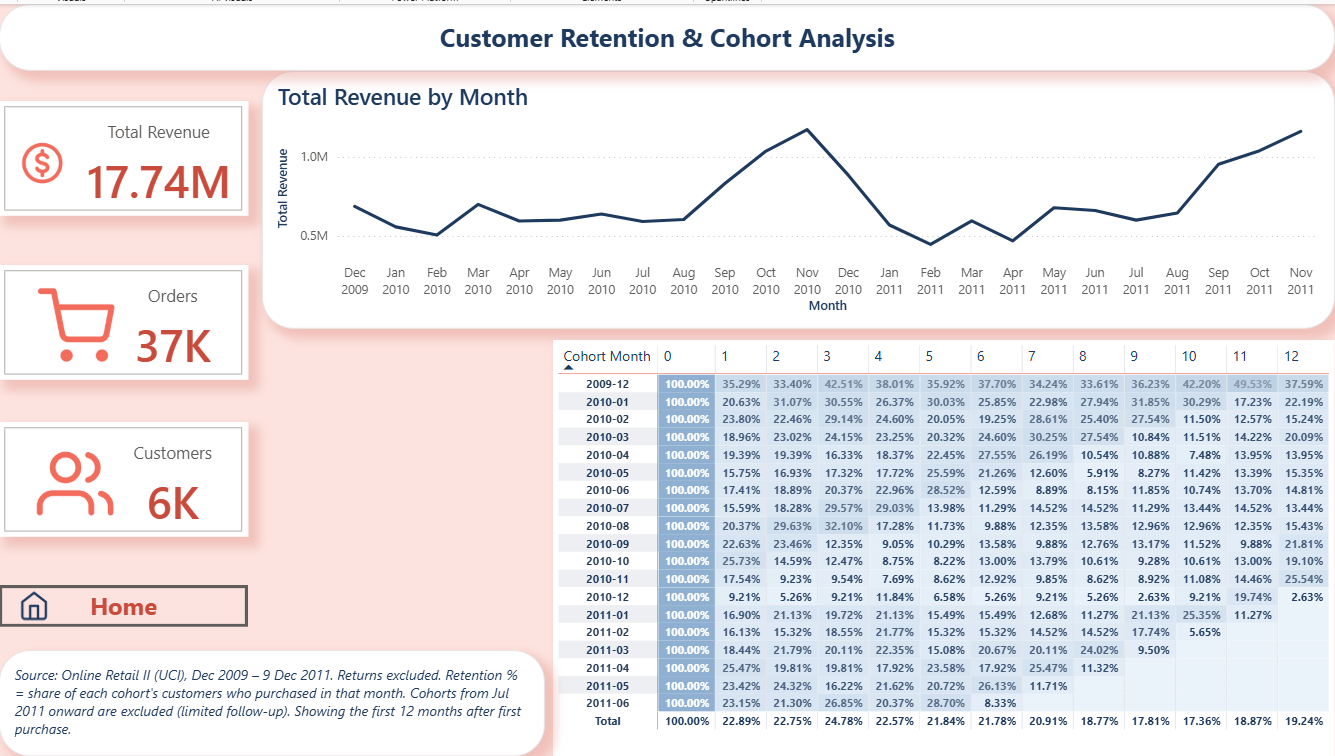

This screenshot's page, from the dashboard's own definition file:
{"tool":"powerbi","page":{"name":"Retention","canvas":[1280,720],"ordinal":1},"visuals":[{"type":"cardVisual","fields":{"Data":["Calendar.Total Revenue"]},"box":[0,92.9,238.6,110.2],"z":0},{"type":"cardVisual","fields":{"Data":["Calendar.Customers"]},"box":[0,400.5,238.6,110.2],"z":1000},{"type":"cardVisual","fields":{"Data":["Calendar.Orders"]},"box":[0,250.1,238.6,110.2],"z":2000},{"type":"lineChart","fields":{"Category":["Calendar.Month"],"Y":["Calendar.Total Revenue"]},"box":[252,64.2,1028,247.2],"z":3000},{"type":"pivotTable","fields":{"Columns":["Sales.Month Index"],"Values":["Sales.Retention %"],"Rows":["Sales.Cohort Month"]},"box":[530.8,321.9,749.2,398.6],"z":4000},{"type":"textbox","box":[0,0,1280.4,63.8],"z":5000},{"type":"textbox","box":[0,618.9,523.1,101.6],"z":6000},{"type":"actionButton","box":[0,556.6,238.6,40.2],"z":7000},{"type":"image","box":[8.6,556.6,50.8,40.2],"z":8000}]}

Visuals, with their boxes on the page's 1280x720 design canvas (x1, y1, x2, y2). These are canvas units, not pixel positions in the 1335x756 screenshot, which may show the page scaled, cropped or inside an application window:
cardVisual - Calendar.Total Revenue: (0,93,239,203)
cardVisual - Calendar.Customers: (0,400,239,511)
cardVisual - Calendar.Orders: (0,250,239,360)
lineChart - Calendar.Month x Calendar.Total Revenue: (252,64,1280,311)
pivotTable - Sales.Month Index x Sales.Retention %: (531,322,1280,720)
textbox: (0,0,1280,64)
textbox: (0,619,523,720)
actionButton: (0,557,239,597)
image: (9,557,59,597)
